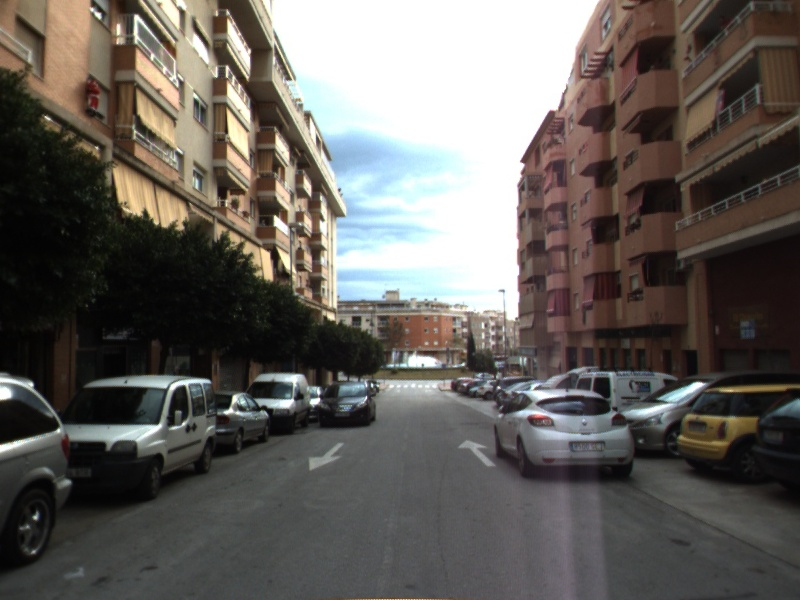STRAIGHT: (456, 438, 498, 468)
